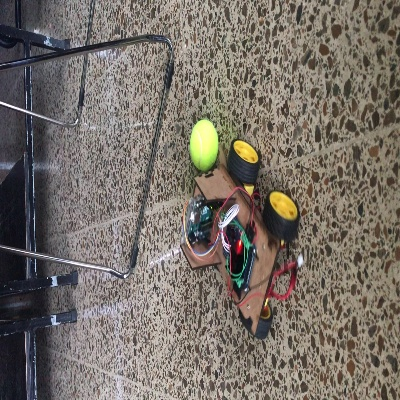Ball: (189, 120, 218, 170)
Robot: (179, 138, 299, 338)
